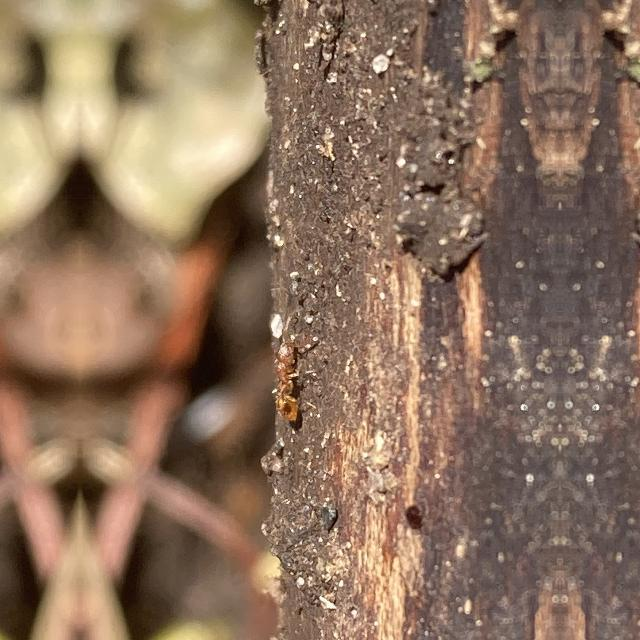Temnothorax: (264, 316, 314, 426)
